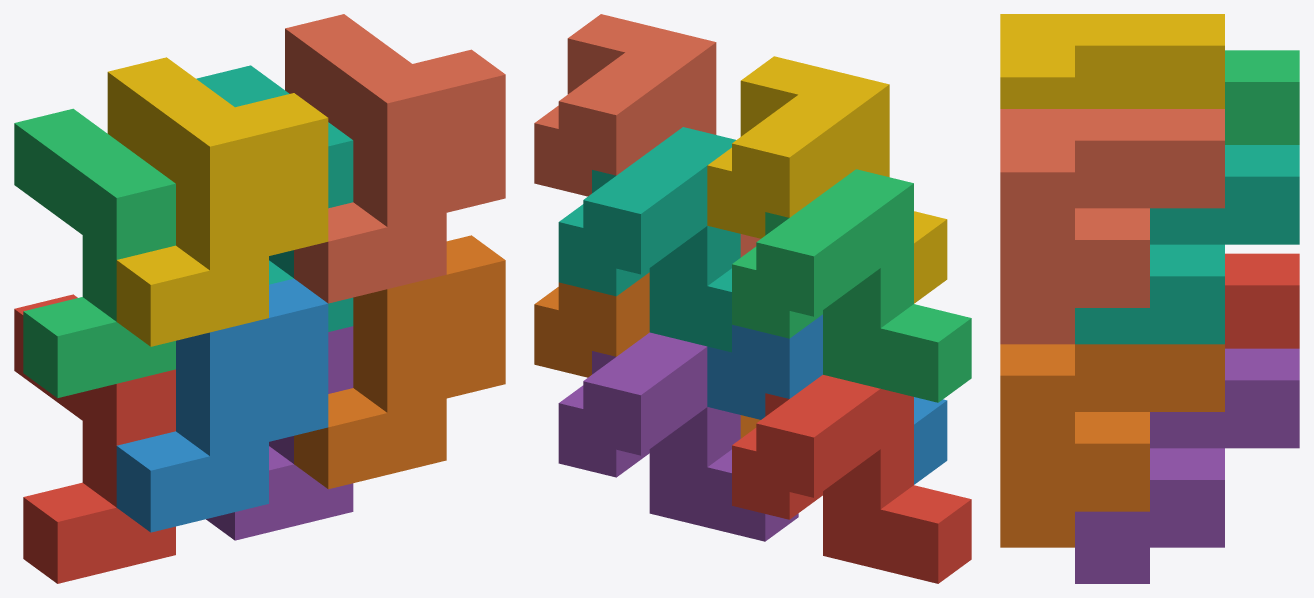
File: tiling.obj
3 views of the same model, side by side, from view 1: azimuth 30°, elevation 25°; view 2: azimuth 150°, elevation 25°; view 3: azimuth 270°, elevation 25° (orthographic). The views are drawn at different scales.
Visible parts, largest first — view 1: copy_1_domain_4, copy_1_domain_8, copy_1_domain_2, copy_1_domain_6, copy_1_domain_3, copy_1_domain_1, copy_1_domain_5, copy_1_domain_7; view 2: copy_1_domain_3, copy_1_domain_1, copy_1_domain_7, copy_1_domain_5, copy_1_domain_4, copy_1_domain_8, copy_1_domain_2, copy_1_domain_6; view 3: copy_1_domain_8, copy_1_domain_6, copy_1_domain_5, copy_1_domain_4, copy_1_domain_7, copy_1_domain_1, copy_1_domain_3.
Boxes of the visible parts, x1,y1,x2,y2 form: copy_1_domain_4: (107, 57, 328, 346); copy_1_domain_8: (285, 14, 505, 303); copy_1_domain_2: (116, 278, 328, 532); copy_1_domain_6: (294, 235, 505, 489); copy_1_domain_3: (14, 108, 175, 398); copy_1_domain_1: (14, 294, 175, 583); copy_1_domain_5: (206, 326, 353, 540); copy_1_domain_7: (196, 65, 353, 331); copy_1_domain_3: (732, 169, 971, 402); copy_1_domain_1: (732, 375, 971, 583); copy_1_domain_7: (558, 127, 740, 352); copy_1_domain_5: (558, 332, 798, 541); copy_1_domain_4: (707, 56, 947, 303); copy_1_domain_8: (534, 14, 760, 257); copy_1_domain_2: (707, 314, 947, 484); copy_1_domain_6: (534, 272, 760, 438); copy_1_domain_8: (1000, 109, 1224, 344); copy_1_domain_6: (1000, 344, 1224, 547); copy_1_domain_5: (1075, 348, 1299, 583); copy_1_domain_4: (1000, 14, 1224, 108); copy_1_domain_7: (1075, 145, 1299, 344); copy_1_domain_1: (1225, 253, 1299, 348); copy_1_domain_3: (1225, 50, 1299, 144).
Size of the model in its own units: 7 by 7 by 4.
